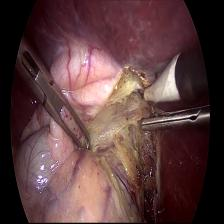Grasper: (17, 43, 101, 168), (137, 103, 210, 137)
Hook: (133, 45, 181, 108)
